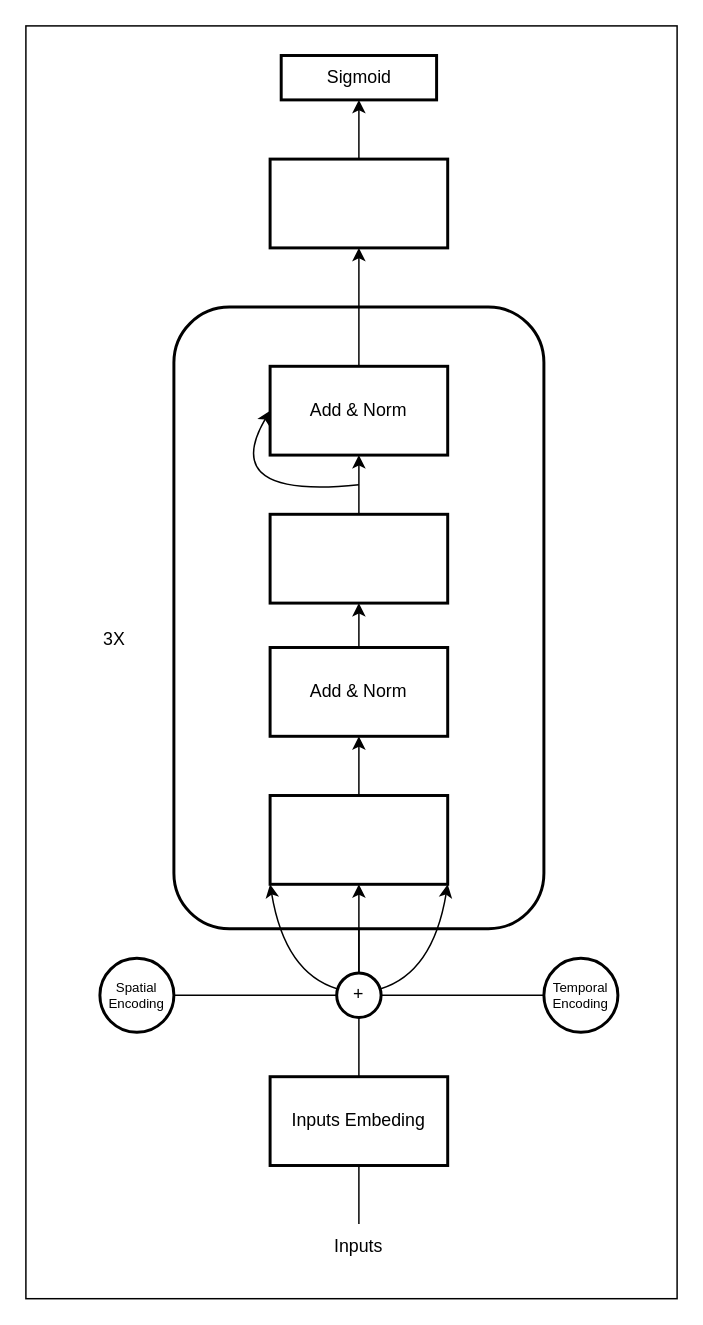
This 703x1325 diagram has some shape labels left out. Here are the shapes that lost their labels. From the top down, the centre of each, then its label:
At [358,203]: "MLP".
At [358,558]: "Feed Forward".
At [358,839]: "Multi-Head Attention".
